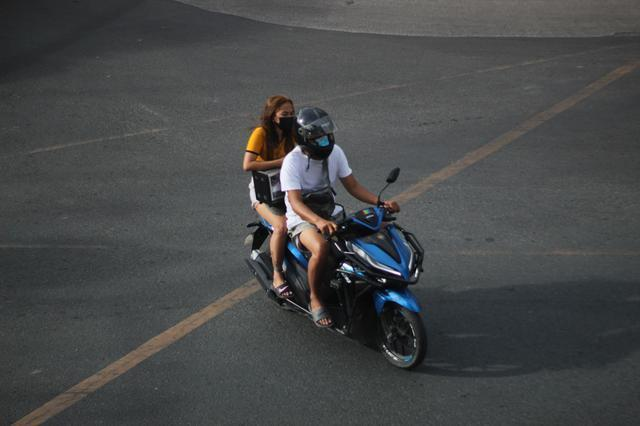helmet: (294, 107, 336, 160)
motorcycle: (239, 93, 429, 370)
